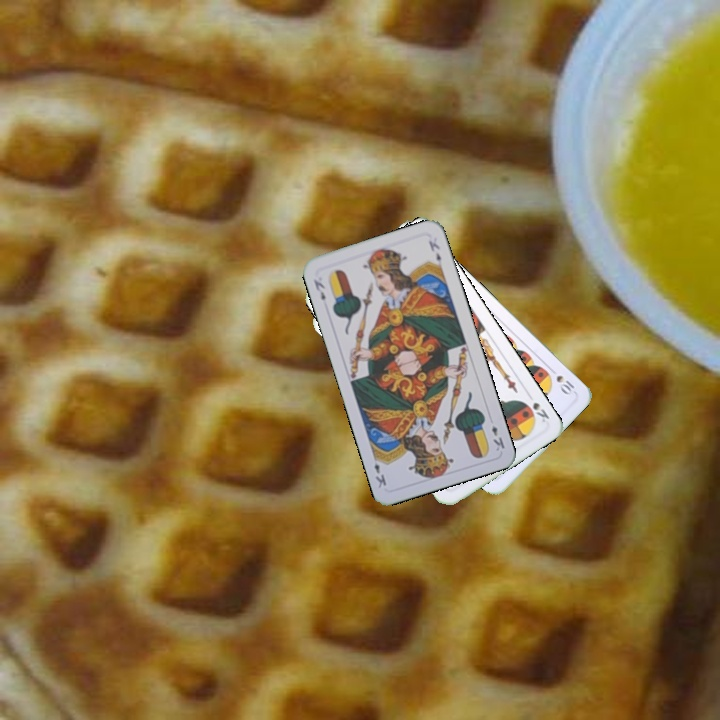EK: (487, 422, 507, 454), (309, 275, 328, 303)
S10: (552, 371, 578, 398)
SK: (520, 397, 552, 425)
